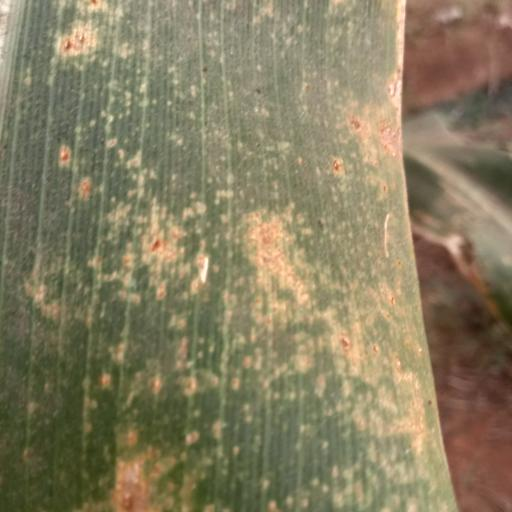Corn_Rust: (4, 0, 466, 512)
